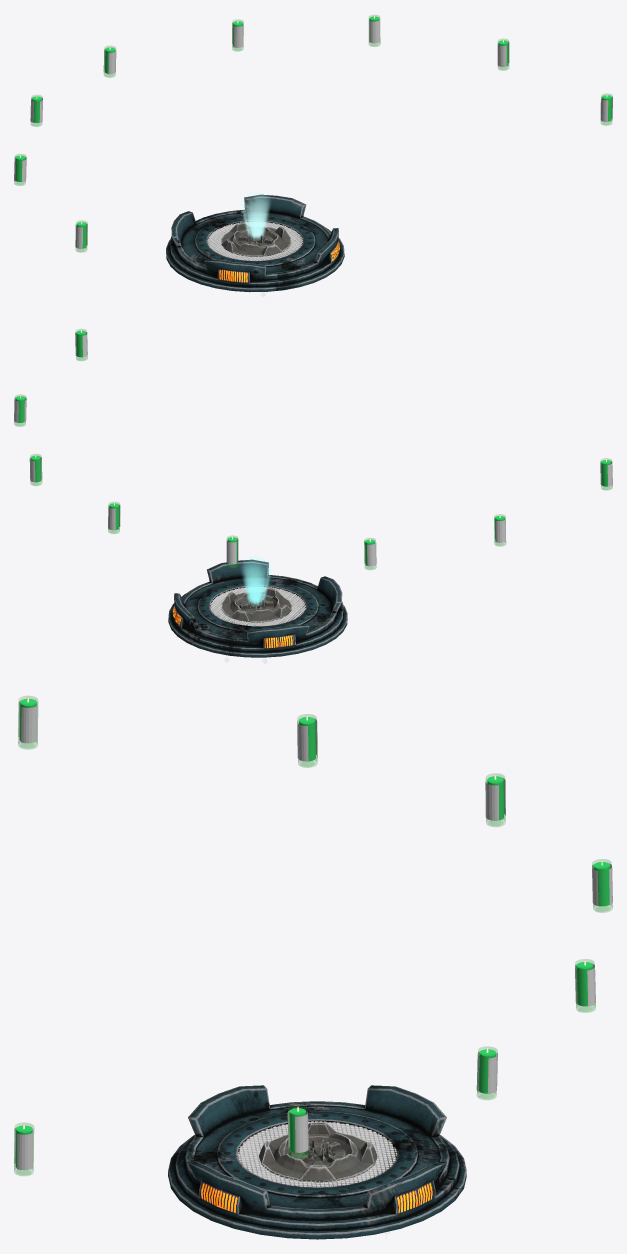
The model's file is alligatorStroll4.glb.
The picture shows the model from 3 angles, top to bottom: view 1: azimuth 30°, elevation 25°; view 2: azimuth 150°, elevation 25°; view 3: azimuth 270°, elevation 25°; orthographic projection. The views are drawn at different scales.
Parts seen in each view (by area): view 1: Circle, Object_2.001, goldCircuit, Object_3; view 2: Circle, Object_2.001, Object_3, goldCircuit; view 3: Circle, Object_2.001, goldCircuit.
Part boxes in pixels (left/top/right/bottom): Circle: left=166, top=194, right=344, bottom=292; Object_2.001: left=221, top=222, right=291, bottom=256; goldCircuit: left=207, top=222, right=302, bottom=260; Object_3: left=241, top=191, right=269, bottom=239; Circle: left=168, top=559, right=347, bottom=657; Object_2.001: left=221, top=587, right=292, bottom=622; Object_3: left=242, top=556, right=270, bottom=605; goldCircuit: left=210, top=587, right=305, bottom=626; Circle: left=168, top=1085, right=466, bottom=1239; Object_2.001: left=259, top=1122, right=377, bottom=1182; goldCircuit: left=237, top=1121, right=397, bottom=1187.
Size of what is drawn, in the model's own units: 5.22 by 1.81 by 3.03.
Materials: 11 (6 with a texture image).
